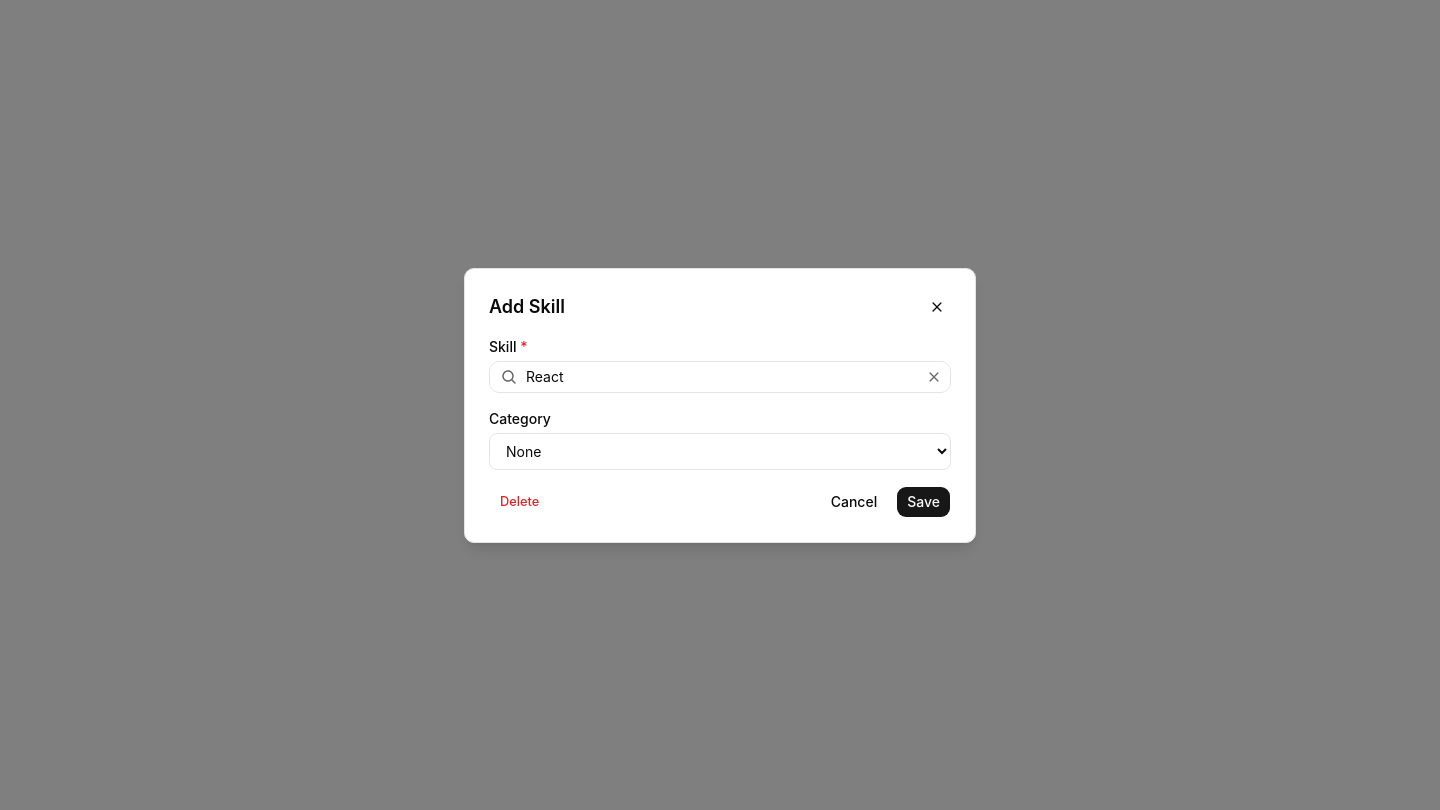
Test: SkillEditDialog › delete button › shows confirmation prompt before deleting
Click the button with aria-label "delete skill" at (520, 502), box [489,488,550,516]
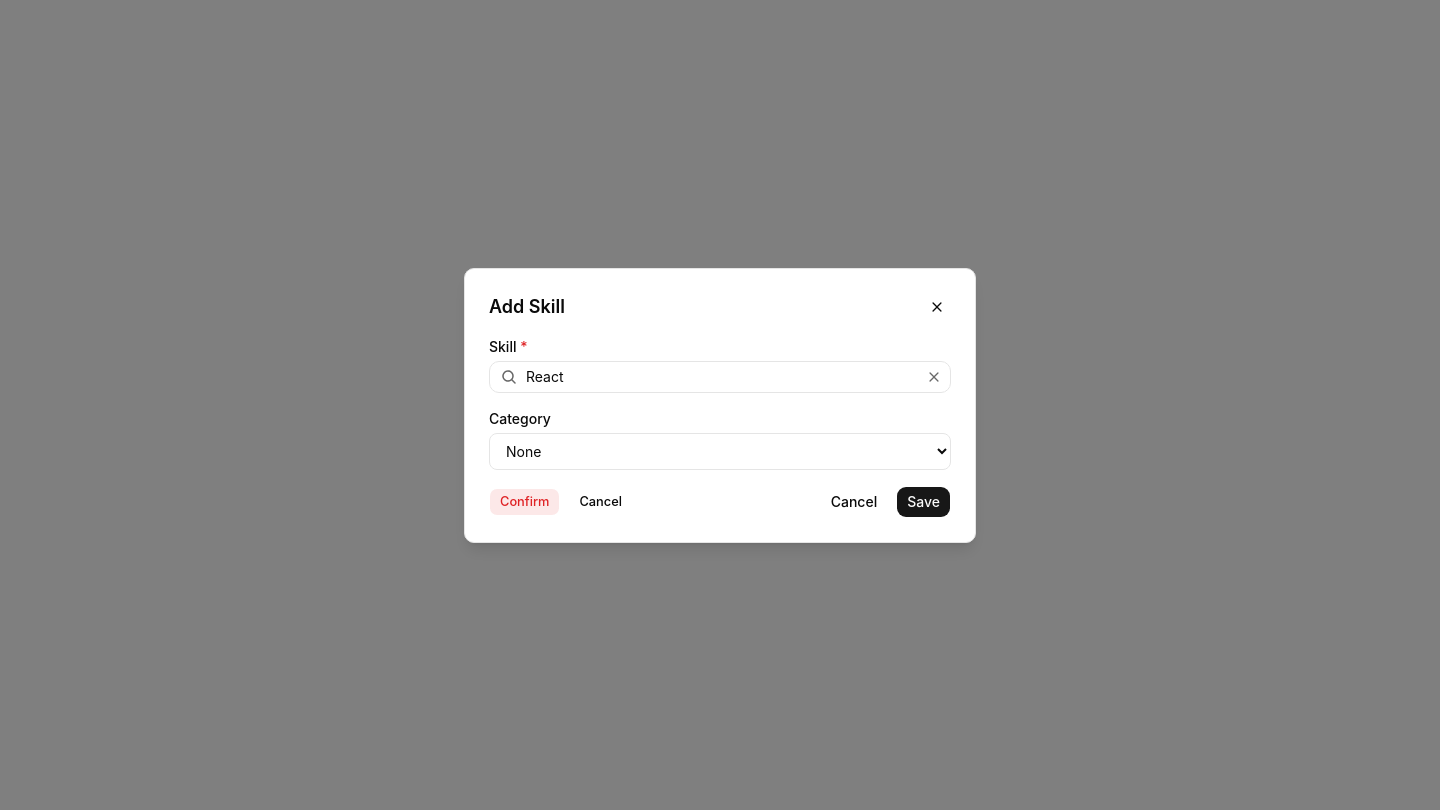
Expected: the button with aria-label "confirm delete" is shown, [489,488,560,516]
